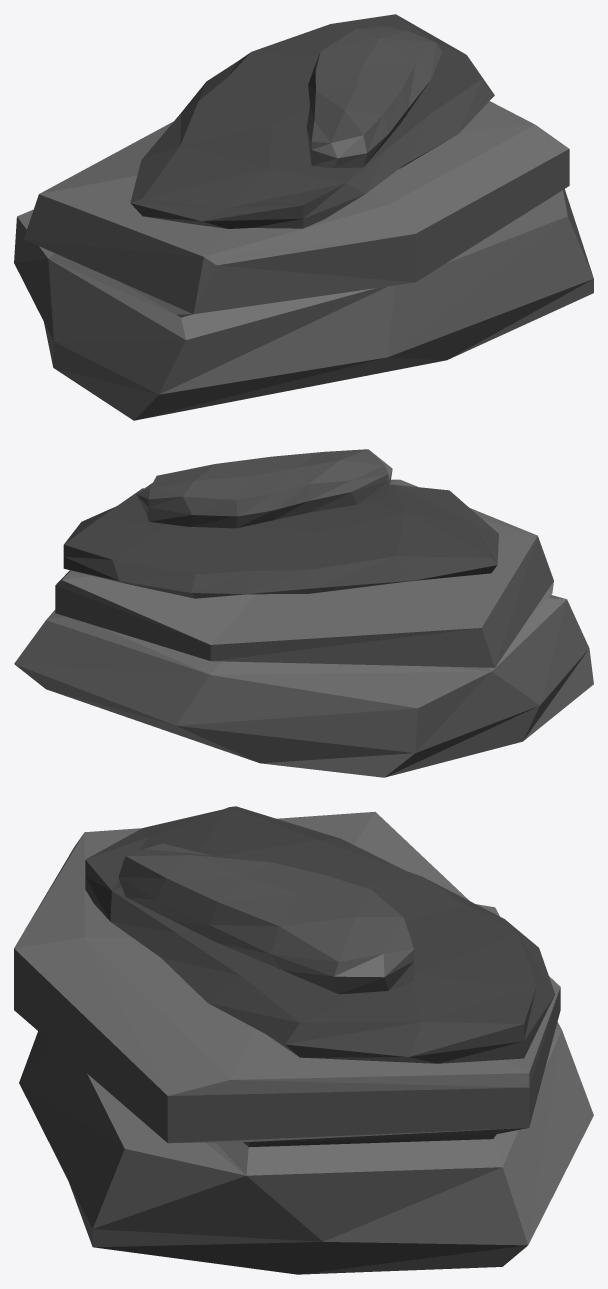
File: stoun_1.fbx
The picture shows the model from 3 angles, top to bottom: view 1: azimuth 30°, elevation 25°; view 2: azimuth 150°, elevation 25°; view 3: azimuth 270°, elevation 25°; orthographic projection. The views are drawn at different scales.
Visible parts, largest first — view 1: Object; view 2: Object; view 3: Object.
Boxes of the visible parts, x1=… form: Object: x1=14, y1=14, x2=593, y2=420; Object: x1=14, y1=449, x2=593, y2=777; Object: x1=14, y1=806, x2=593, y2=1274.
Bounding box in the file's own units: 542 × 237 × 432.
